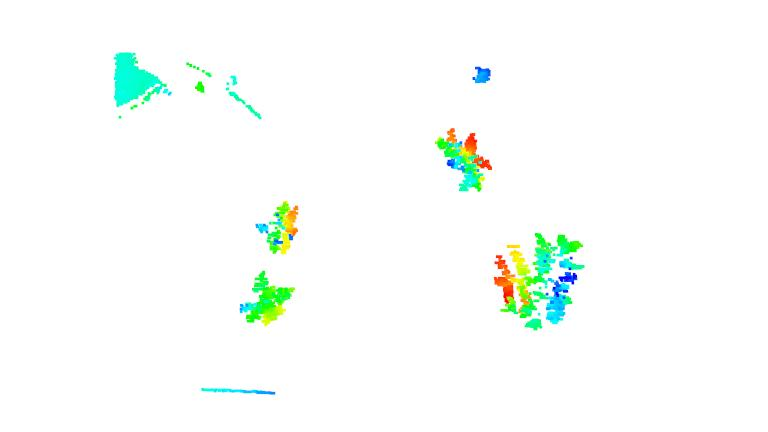chickpea: (493, 231, 584, 330), (436, 127, 493, 195), (238, 270, 295, 325), (254, 201, 301, 256)
